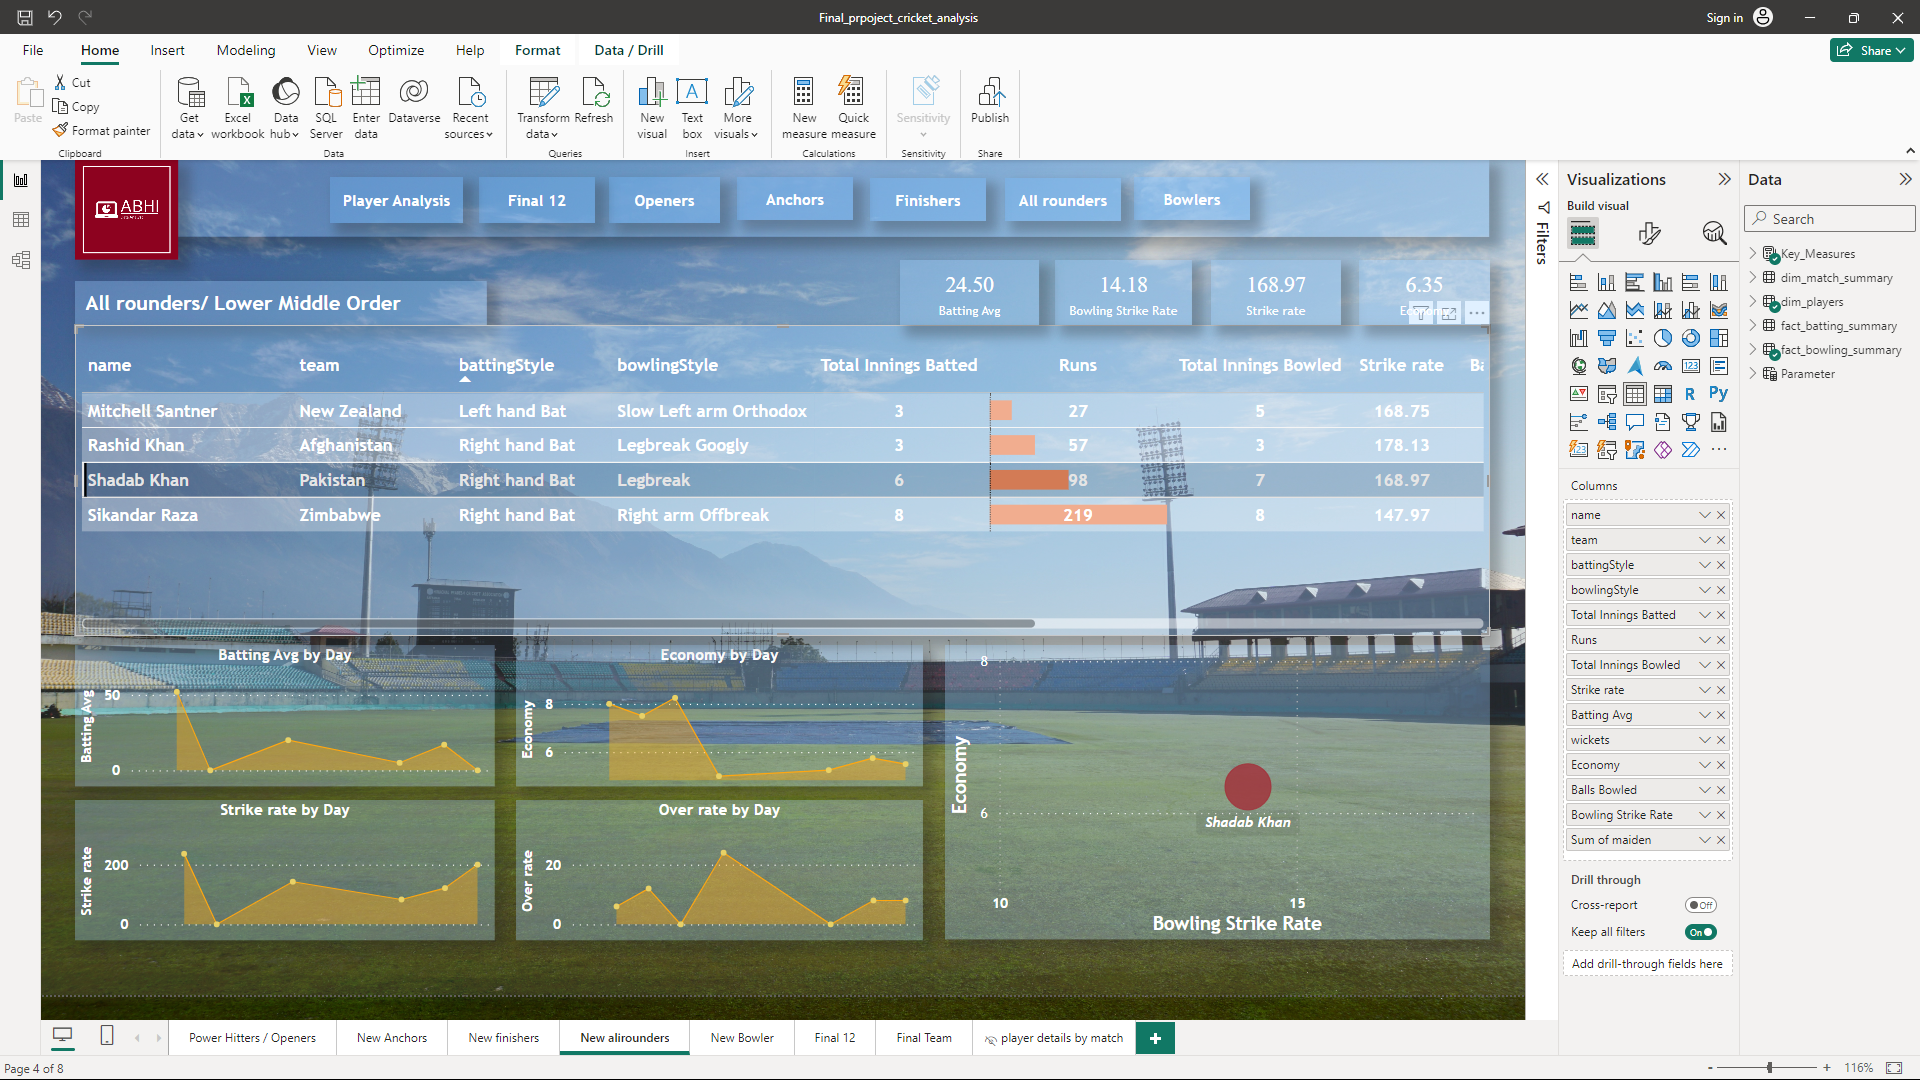

The dashboard page shown, as its layout file describes it:
{"tool":"powerbi","page":{"name":"New alirounders","canvas":[1280,720],"ordinal":6},"visuals":[{"type":"shape","box":[29.3,0,1220.5,66.4],"z":0},{"type":"shape","box":[29.3,104.4,355.4,38],"z":1000},{"type":"areaChart","fields":{"Y":["Key_Measures.Batting Avg"],"Category":["dim_match_summary.matchDate.Variation.Date Hierarchy.Day"]},"box":[29.3,418.3,362.3,121.6],"z":2000},{"type":"areaChart","fields":{"Category":["dim_match_summary.matchDate.Variation.Date Hierarchy.Day"],"Y":["Key_Measures.Economy"]},"box":[409.7,418.3,351.1,121.6],"z":3000},{"type":"areaChart","fields":{"Y":["Key_Measures.Strike rate"],"Category":["dim_match_summary.matchDate.Variation.Date Hierarchy.Day"]},"box":[29.3,552,362.3,120.8],"z":4000},{"type":"areaChart","fields":{"Category":["dim_match_summary.matchDate.Variation.Date Hierarchy.Day"],"Y":["Key_Measures.Bowling Strike Rate"]},"box":[409.7,552,351.1,120.8],"z":5000},{"type":"image","box":[29.3,0,88.8,86.3],"z":6000},{"type":"actionButton","box":[715,15.5,100.1,37.1],"z":7000},{"type":"actionButton","box":[831.5,15.5,100.1,37.1],"z":8000},{"type":"actionButton","box":[942.7,14.7,100.1,37.1],"z":9000},{"type":"actionButton","box":[600.3,14.7,100.1,37.1],"z":10000},{"type":"actionButton","box":[489.9,14.7,95.7,39.7],"z":11000},{"type":"actionButton","box":[377.8,14.7,100.1,39.7],"z":12000},{"type":"actionButton","box":[249.3,14.7,114.7,39.7],"z":13000},{"type":"tableEx","fields":{"Values":["dim_player.name","dim_player.team","dim_player.Batting Style","dim_player.Bowling Style","Key_Measures.Total Matches","Key_Measures.Total Runs","Key_Measures.Total Innings Bowled","Key_Measures.Strike rate","Key_Measures.Bat Avg","Key_Measures.wickets","Key_Measures.Economy","Key_Measures.Balls Bowled"]},"box":[29.3,142.3,1220.5,268.2],"z":14000},{"type":"card","fields":{"Values":["Key_Measures.Economy"]},"box":[1136.8,86.3,113,56.1],"z":15000},{"type":"card","fields":{"Values":["Key_Measures.Bowling Strike Rate"]},"box":[874.6,86.3,118.2,56.1],"z":16000},{"type":"card","fields":{"Values":["Key_Measures.Strike rate"]},"box":[1009.2,86.3,112.1,56.1],"z":17000},{"type":"card","fields":{"Values":["Key_Measures.Bat Avg"]},"box":[740.9,86.3,119.9,56.1],"z":18000},{"type":"scatterChart","fields":{"Category":["dim_player.name"],"X":["Key_Measures.Bowling Strike Rate"],"Series":["dim_player.name"],"Y":["Key_Measures.Economy"],"Size":["Key_Measures.Total Runs"]},"box":[779.7,418.3,470.1,254.4],"z":19000}]}

Visuals, with their boxes on the page's 1280x720 design canvas (x1, y1, x2, y2). These are canvas units, not pixel positions in the 1920x1080 screenshot, which may show the page scaled, cropped or inside an application window:
shape: 29, 0, 1250, 66
shape: 29, 104, 385, 142
areaChart - Key_Measures.Batting Avg x dim_match_summary.matchDate.Variation.Date Hierarchy.Day: 29, 418, 392, 540
areaChart - dim_match_summary.matchDate.Variation.Date Hierarchy.Day x Key_Measures.Economy: 410, 418, 761, 540
areaChart - Key_Measures.Strike rate x dim_match_summary.matchDate.Variation.Date Hierarchy.Day: 29, 552, 392, 673
areaChart - dim_match_summary.matchDate.Variation.Date Hierarchy.Day x Key_Measures.Bowling Strike Rate: 410, 552, 761, 673
image: 29, 0, 118, 86
actionButton: 715, 16, 815, 53
actionButton: 832, 16, 932, 53
actionButton: 943, 15, 1043, 52
actionButton: 600, 15, 700, 52
actionButton: 490, 15, 586, 54
actionButton: 378, 15, 478, 54
actionButton: 249, 15, 364, 54
tableEx - dim_player.name x dim_player.team: 29, 142, 1250, 410
card - Key_Measures.Economy: 1137, 86, 1250, 142
card - Key_Measures.Bowling Strike Rate: 875, 86, 993, 142
card - Key_Measures.Strike rate: 1009, 86, 1121, 142
card - Key_Measures.Bat Avg: 741, 86, 861, 142
scatterChart - dim_player.name x Key_Measures.Bowling Strike Rate: 780, 418, 1250, 673
